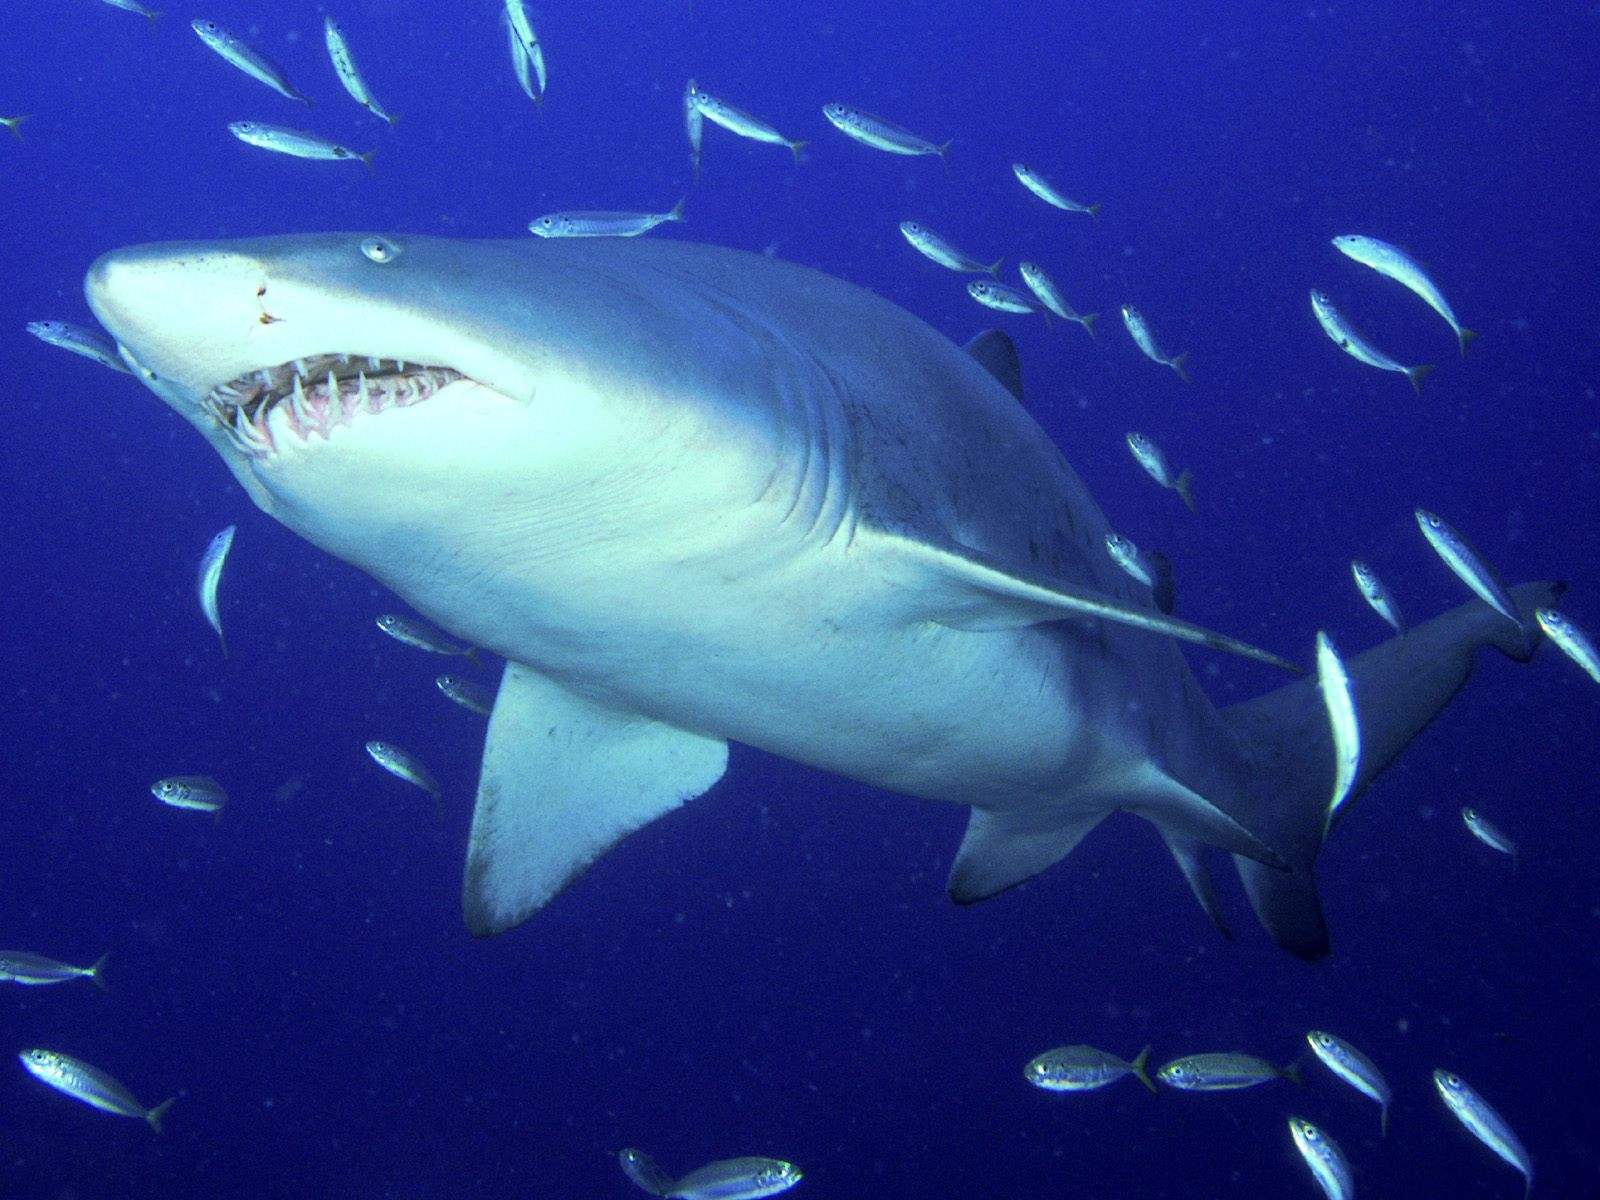shark: (94, 223, 1547, 966)
